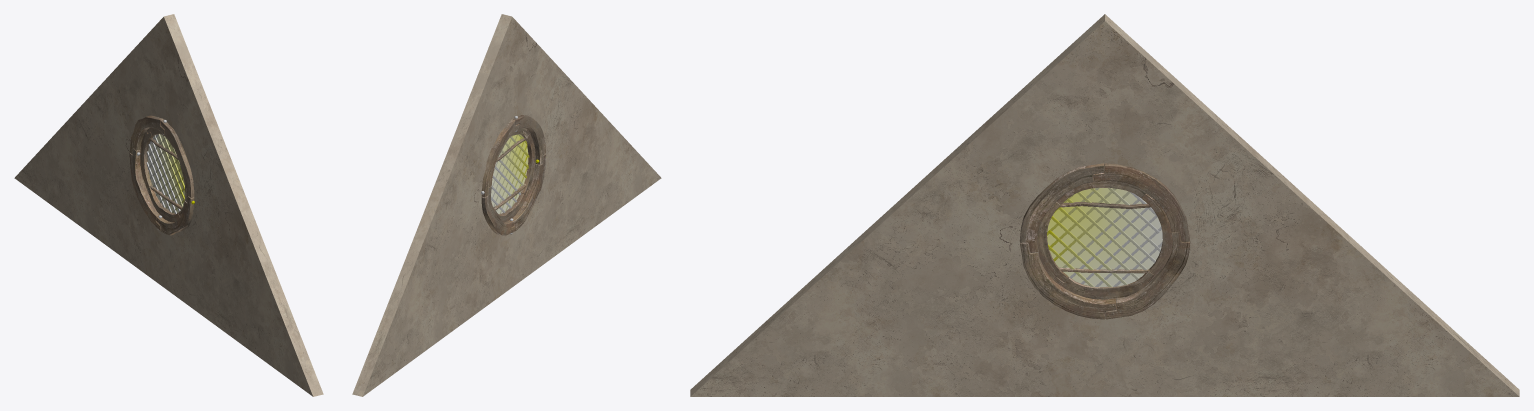
The model's file is SM_Wall_Top_04.fbx.
3 views of the same model, side by side, from view 1: azimuth 30°, elevation 25°; view 2: azimuth 150°, elevation 25°; view 3: azimuth 270°, elevation 25° (orthographic). The views are drawn at different scales.
Visible parts, largest first — view 1: SM_Wall_Top_04_LOD0; view 2: SM_Wall_Top_04_LOD0; view 3: SM_Wall_Top_04_LOD0.
Part boxes in pixels (x1,y1,x2,y2): SM_Wall_Top_04_LOD0: (14, 14, 323, 396); SM_Wall_Top_04_LOD0: (352, 14, 661, 396); SM_Wall_Top_04_LOD0: (690, 14, 1519, 396).
Size of the model in its own units: 22.62 by 600 by 300.
